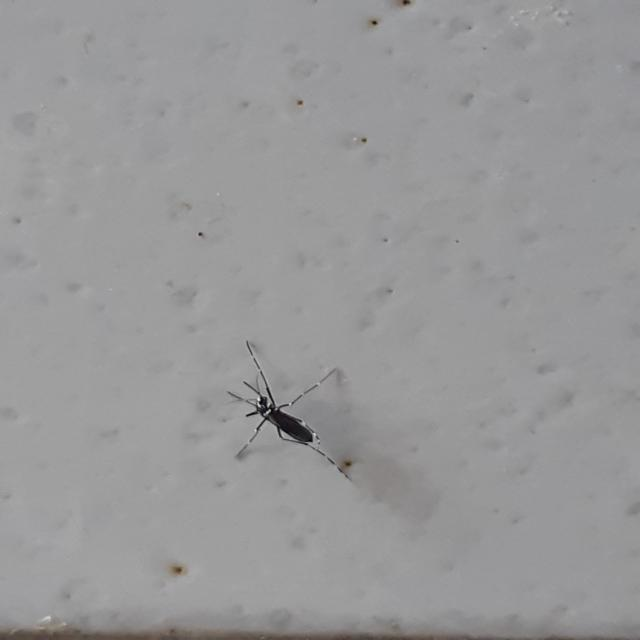albopictus: (209, 334, 357, 484)
